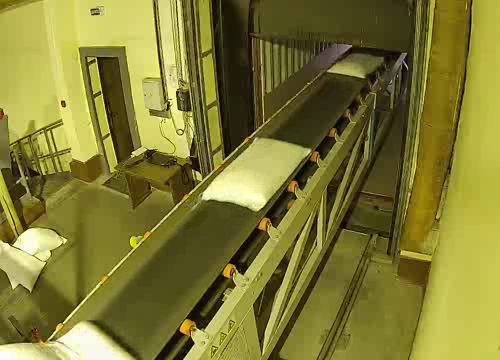bag: (194, 135, 314, 219), (0, 314, 148, 360), (324, 50, 387, 85)
